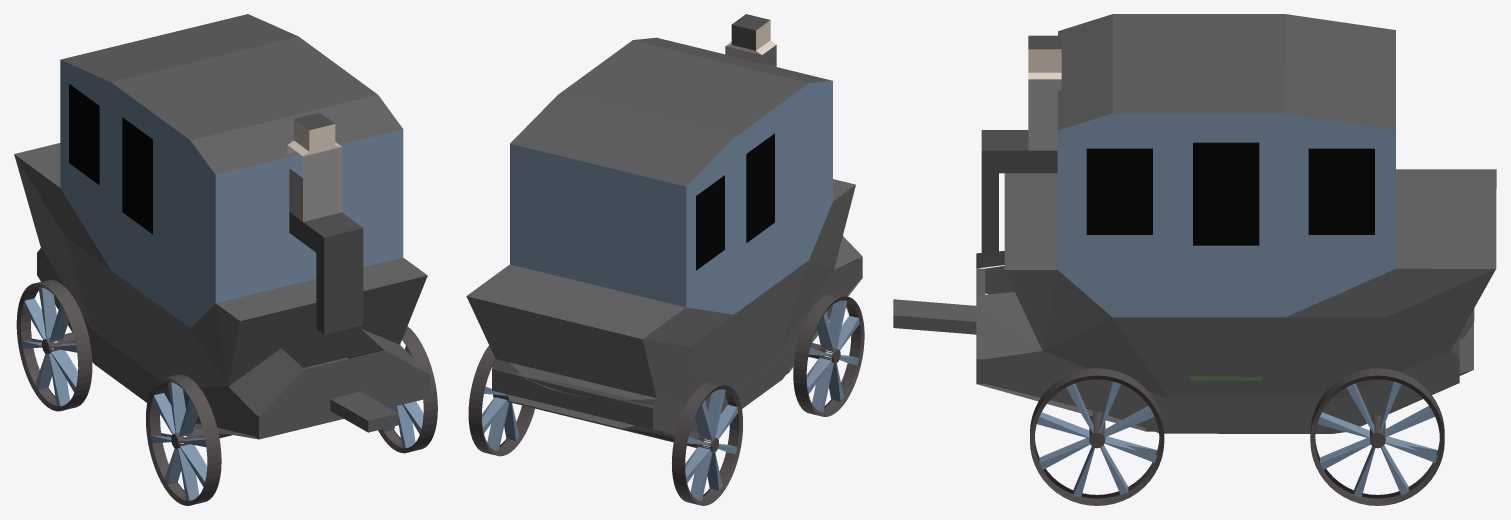
The model's file is horse-carriage-closed-citycar.dae.
The picture shows the model from 3 angles, left to right: view 1: azimuth 30°, elevation 25°; view 2: azimuth 150°, elevation 25°; view 3: azimuth 270°, elevation 25°; orthographic projection. The views are drawn at different scales.
Visible parts, largest first — view 1: Cube, Plane_014, Cylinder_008, Cylinder, Plane_002; view 2: Cube, Cylinder, Cylinder_008, Plane_002, Plane_014; view 3: Cube, Plane_001, Plane_014, Cylinder_008, Cylinder.
Boxes of the visible parts, box(x1,y1,x2,y2) form: Cube: box(14, 14, 430, 439); Plane_014: box(287, 112, 363, 334); Cylinder_008: box(146, 326, 437, 505); Cylinder: box(16, 279, 92, 411); Plane_002: box(69, 84, 152, 234); Cube: box(466, 37, 862, 434); Cylinder: box(468, 345, 742, 505); Cylinder_008: box(793, 293, 864, 416); Plane_002: box(696, 133, 774, 270); Plane_014: box(725, 14, 776, 66); Cube: box(893, 14, 1496, 433); Plane_001: box(1086, 142, 1374, 245); Plane_014: box(981, 35, 1061, 255); Cylinder_008: box(1030, 368, 1164, 505); Cylinder: box(1310, 368, 1444, 505).
Bounding box in the file's own units: 1.39 × 2.87 × 2.11.
